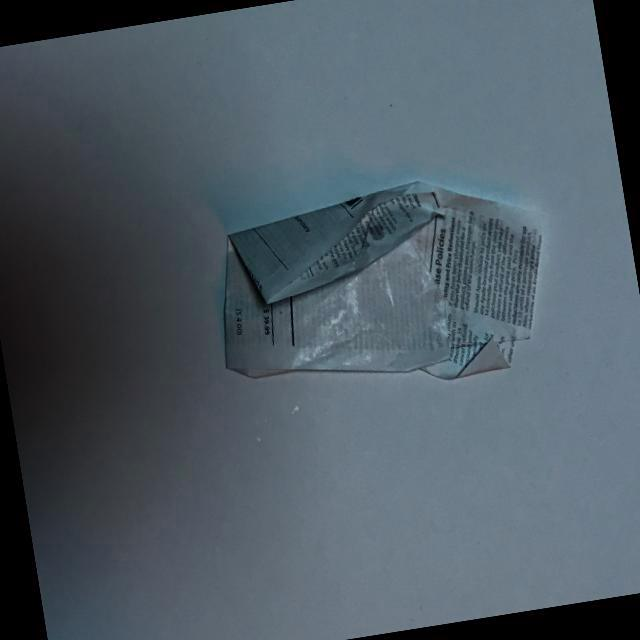paper: (197, 160, 580, 423)
